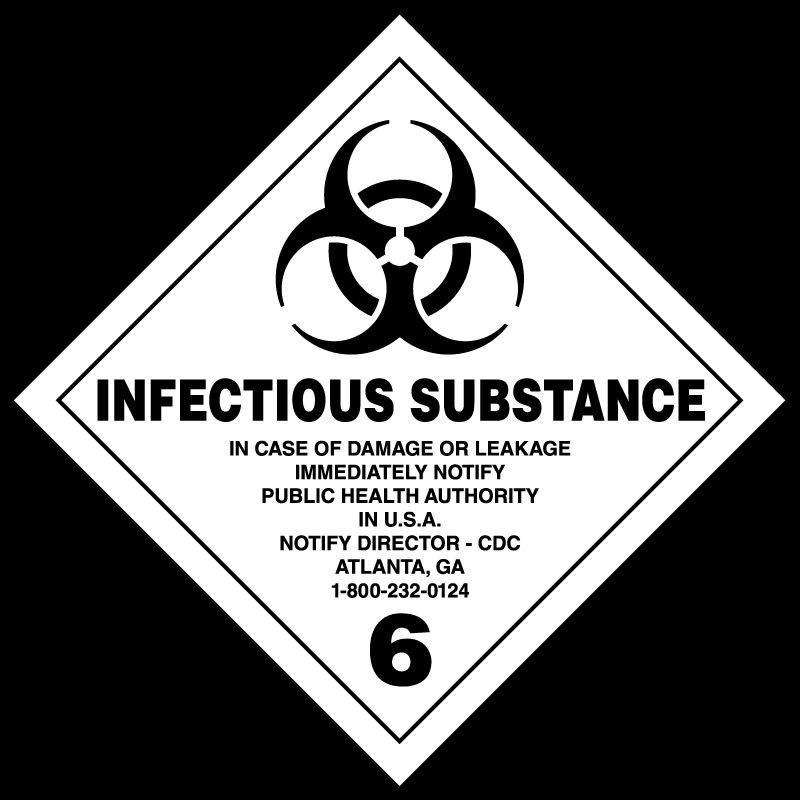infectious-substance: (1, 1, 800, 800)
